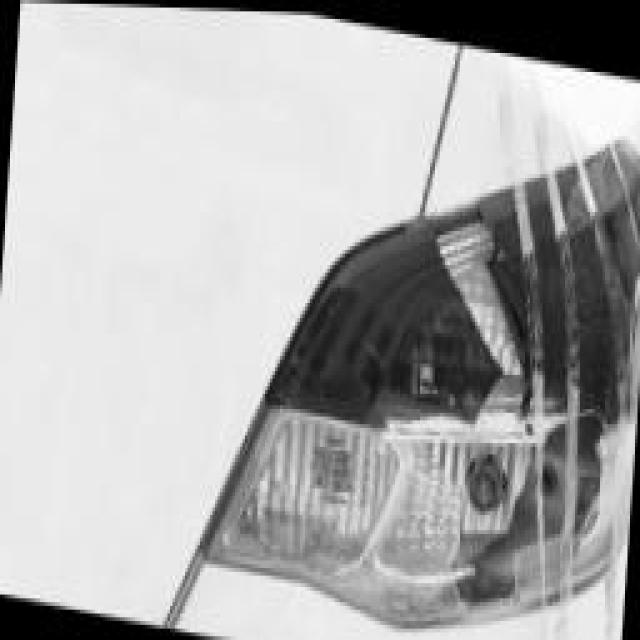Light: (265, 118, 640, 424)
